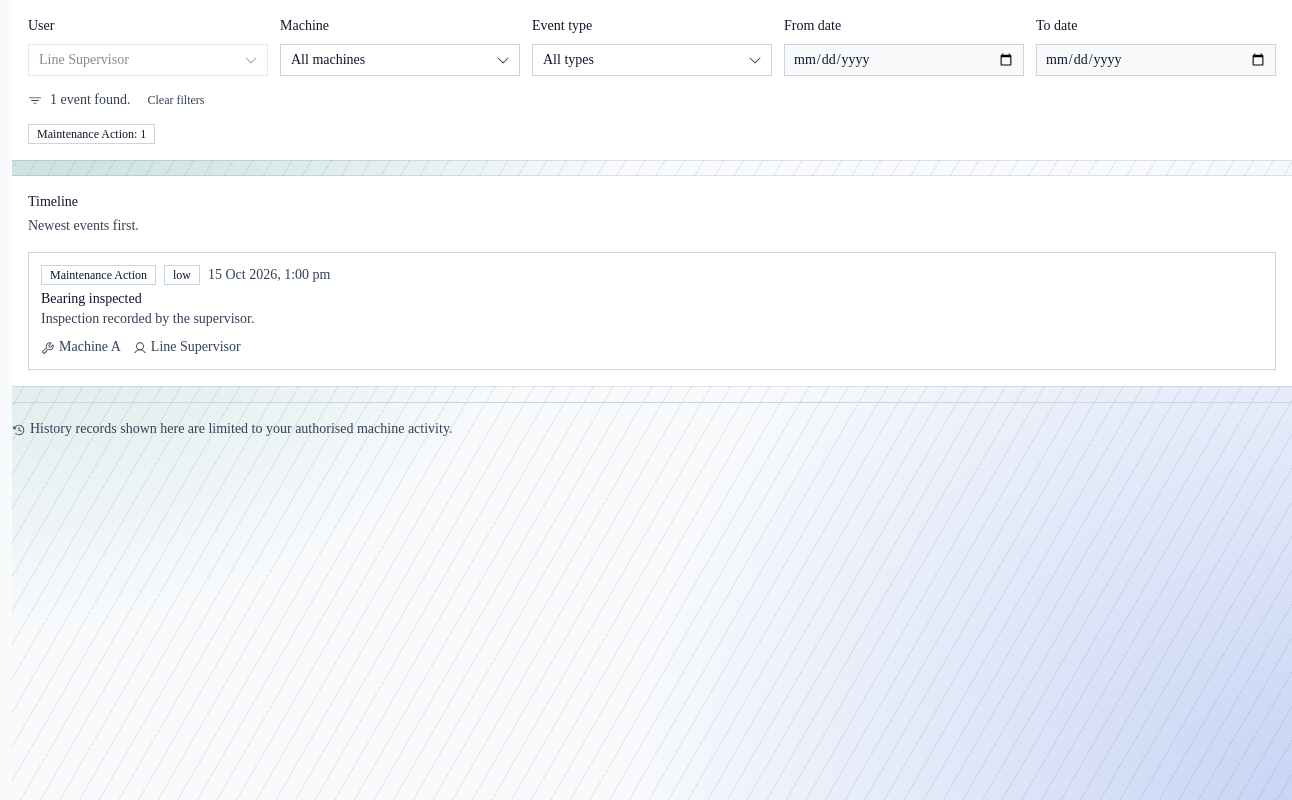
Scenario: history preserves its filters and labels previous results during a failed refresh, then recovers on retry
Expected: the text "Bearing inspected" is shown, [41,291,142,306]
In the date field labelled "From date": (904, 60) [784,44,1024,76], type "2026-10-01"
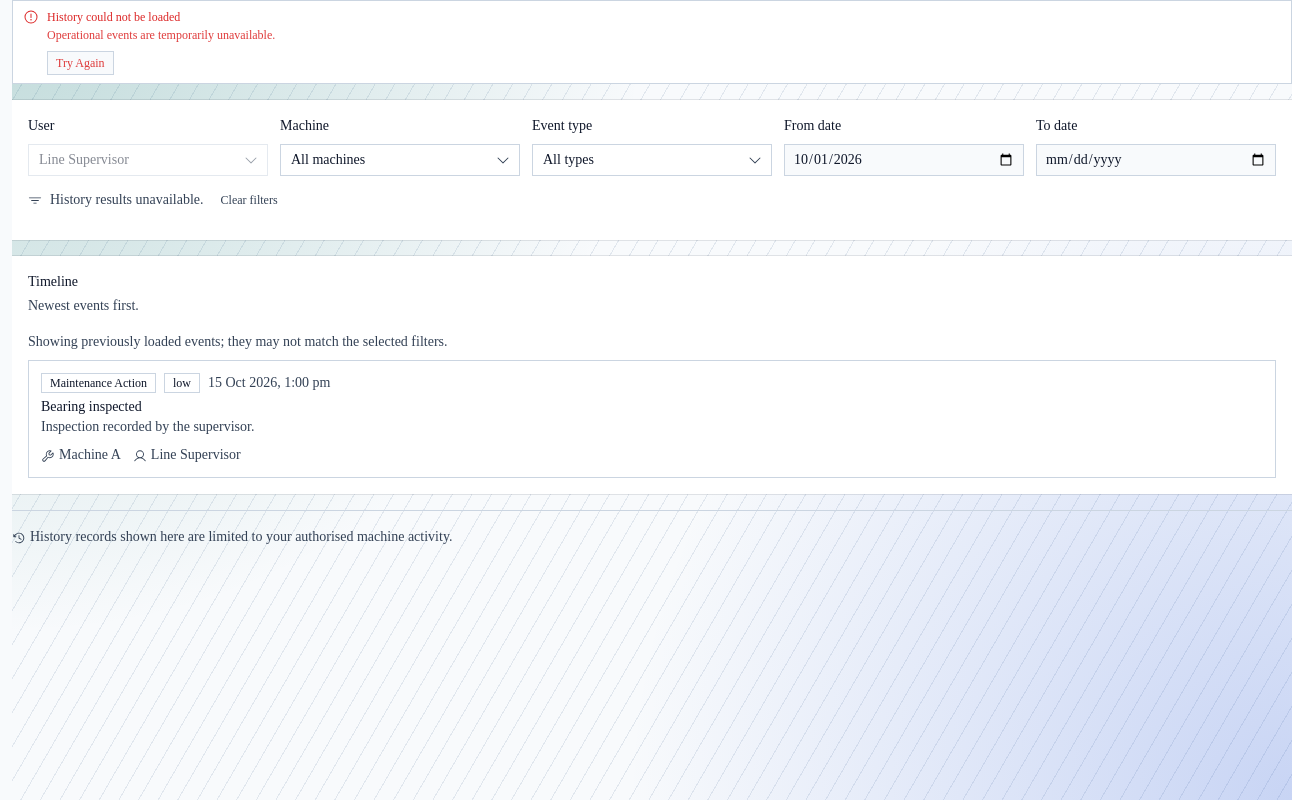
Expected: the text "History could not be loaded" is shown, [47,10,180,24]
Expected: the text "Showing previously loaded events" is shown, [28,334,448,349]
Expected: the text "1 event found." is gone
Click the button "Try Again": (80, 63) [47,51,114,75]
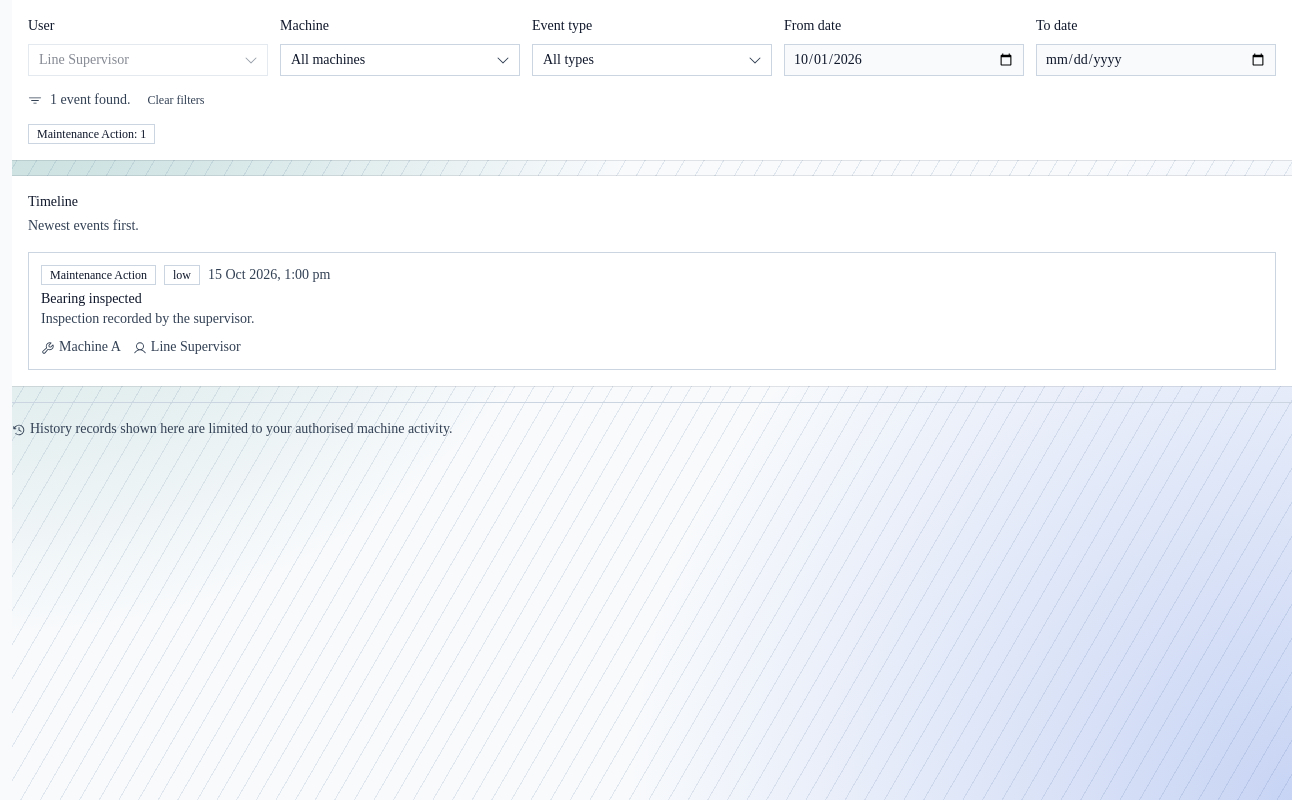
Expected: the text "Bearing inspected" is shown, [41,291,142,306]
Expected: the text "History could not be loaded" is gone
